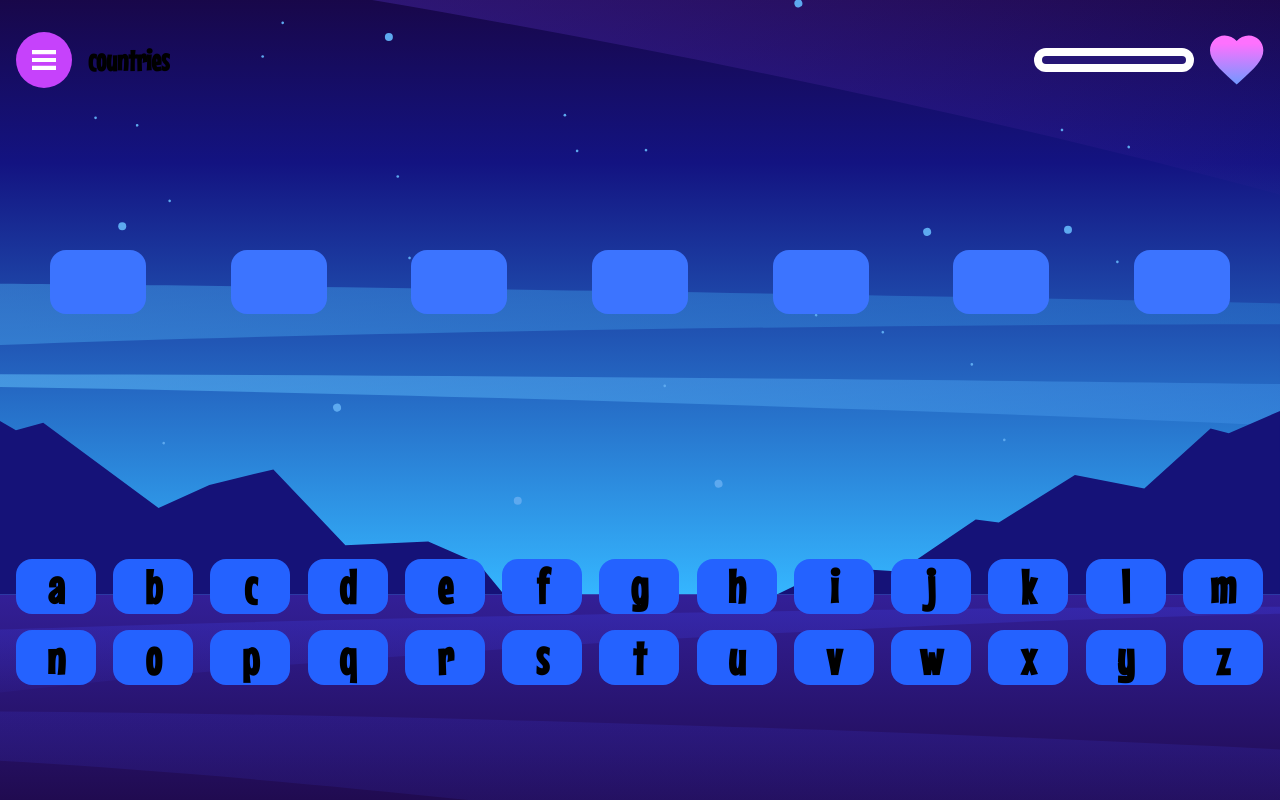
Test: Game › Letter is chosen and disabled
Click the button "a" at (56, 586), box top-left (16, 559), bottom-right (96, 614)
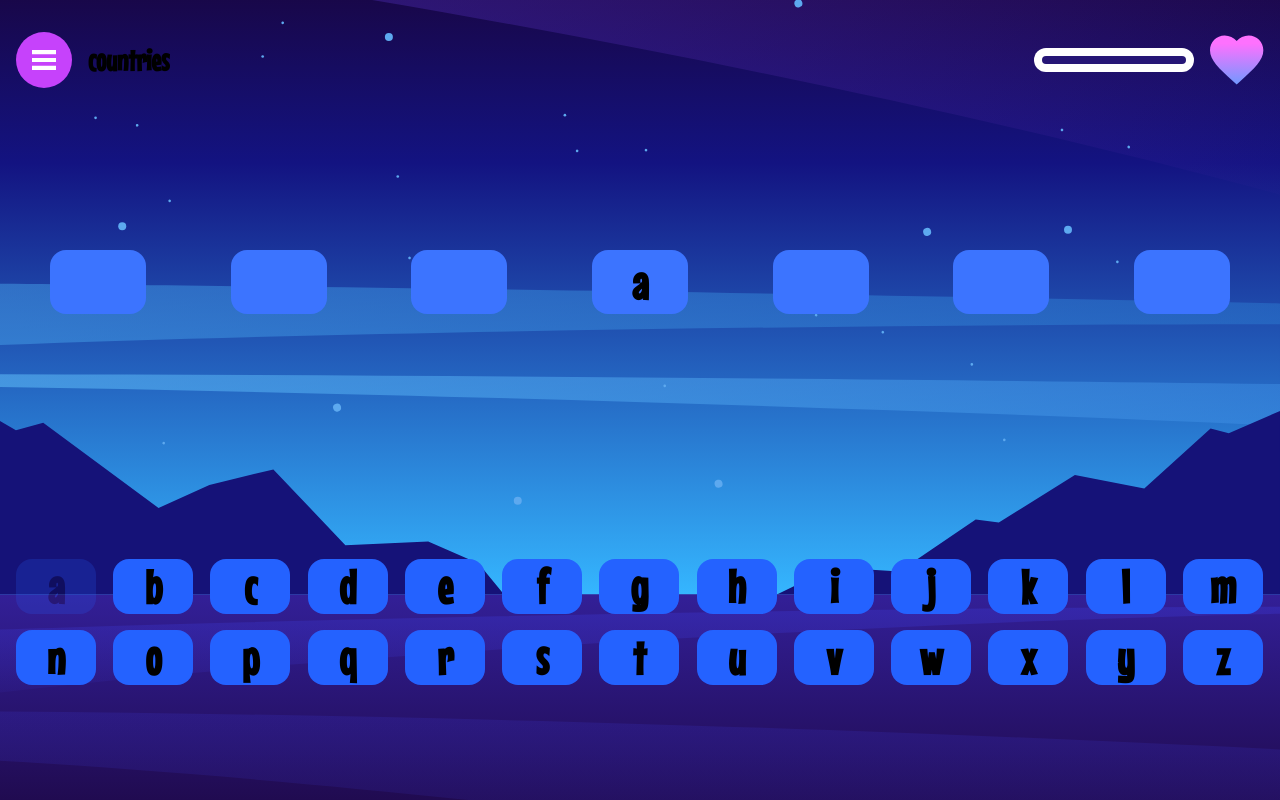
Now the button "a" is disabled, box top-left (16, 559), bottom-right (96, 614)
